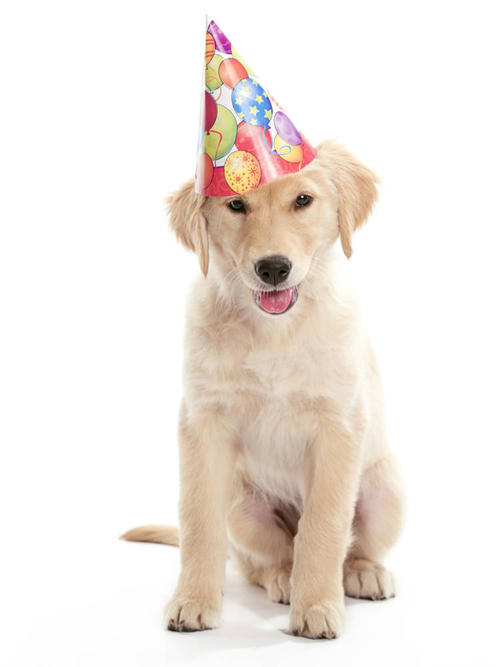dog: (162, 126, 402, 334)
